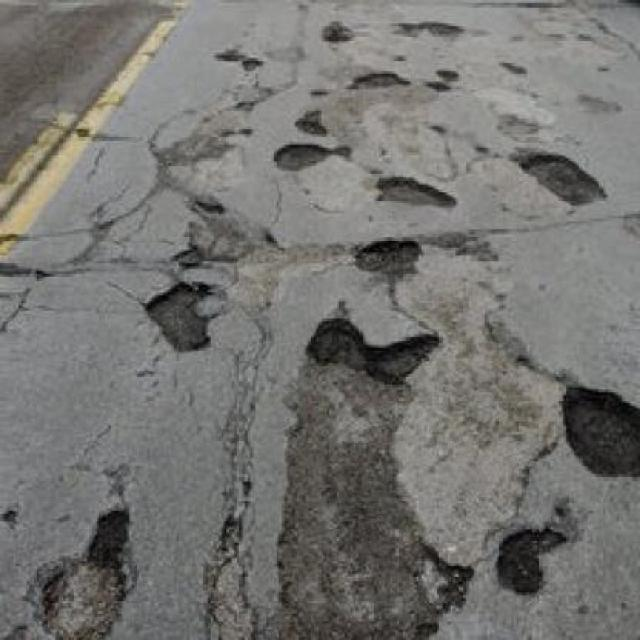pothole: (35, 498, 142, 638), (303, 308, 448, 387), (560, 371, 640, 480), (145, 272, 229, 361), (515, 140, 614, 206), (352, 227, 430, 279)
